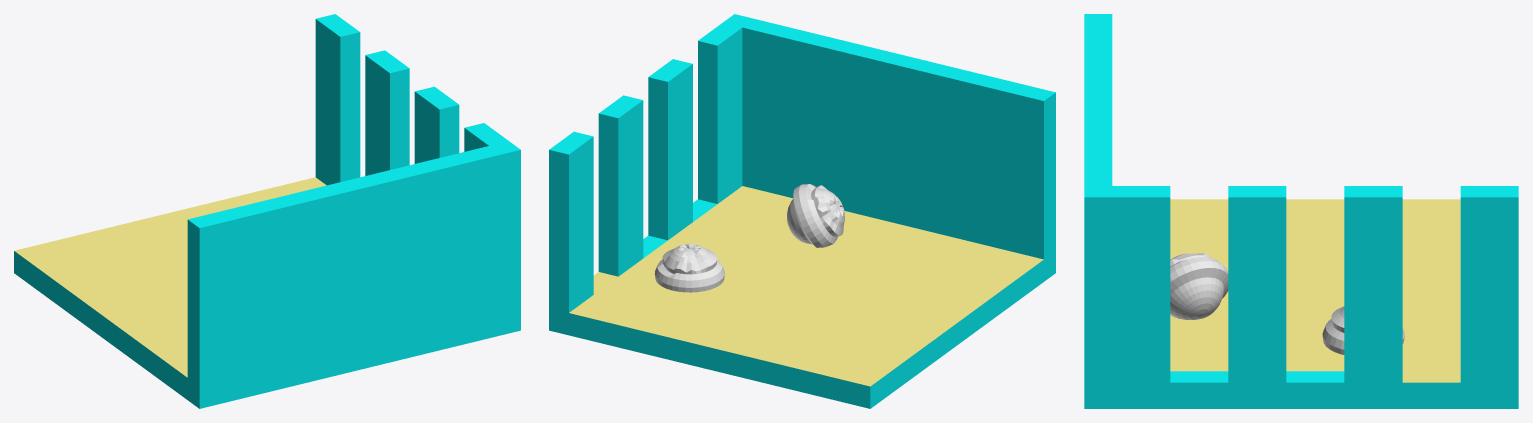
The model's file is B_Hall.fbx.
3 views of the same model, side by side, from view 1: azimuth 30°, elevation 25°; view 2: azimuth 150°, elevation 25°; view 3: azimuth 270°, elevation 25° (orthographic). The views are drawn at different scales.
Parts seen in each view (by area): view 1: Cube; view 2: Cube; view 3: Cube.
Boxes of the visible parts, x1=… form: Cube: x1=14, y1=14, x2=520, y2=408; Cube: x1=549, y1=14, x2=1055, y2=408; Cube: x1=1084, y1=14, x2=1518, y2=408.
Size of the model in its own units: 3000 by 1613 by 3000.
